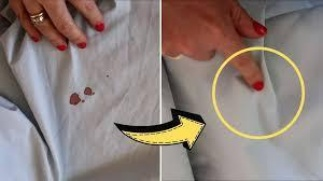blood: (69, 86, 93, 106)
